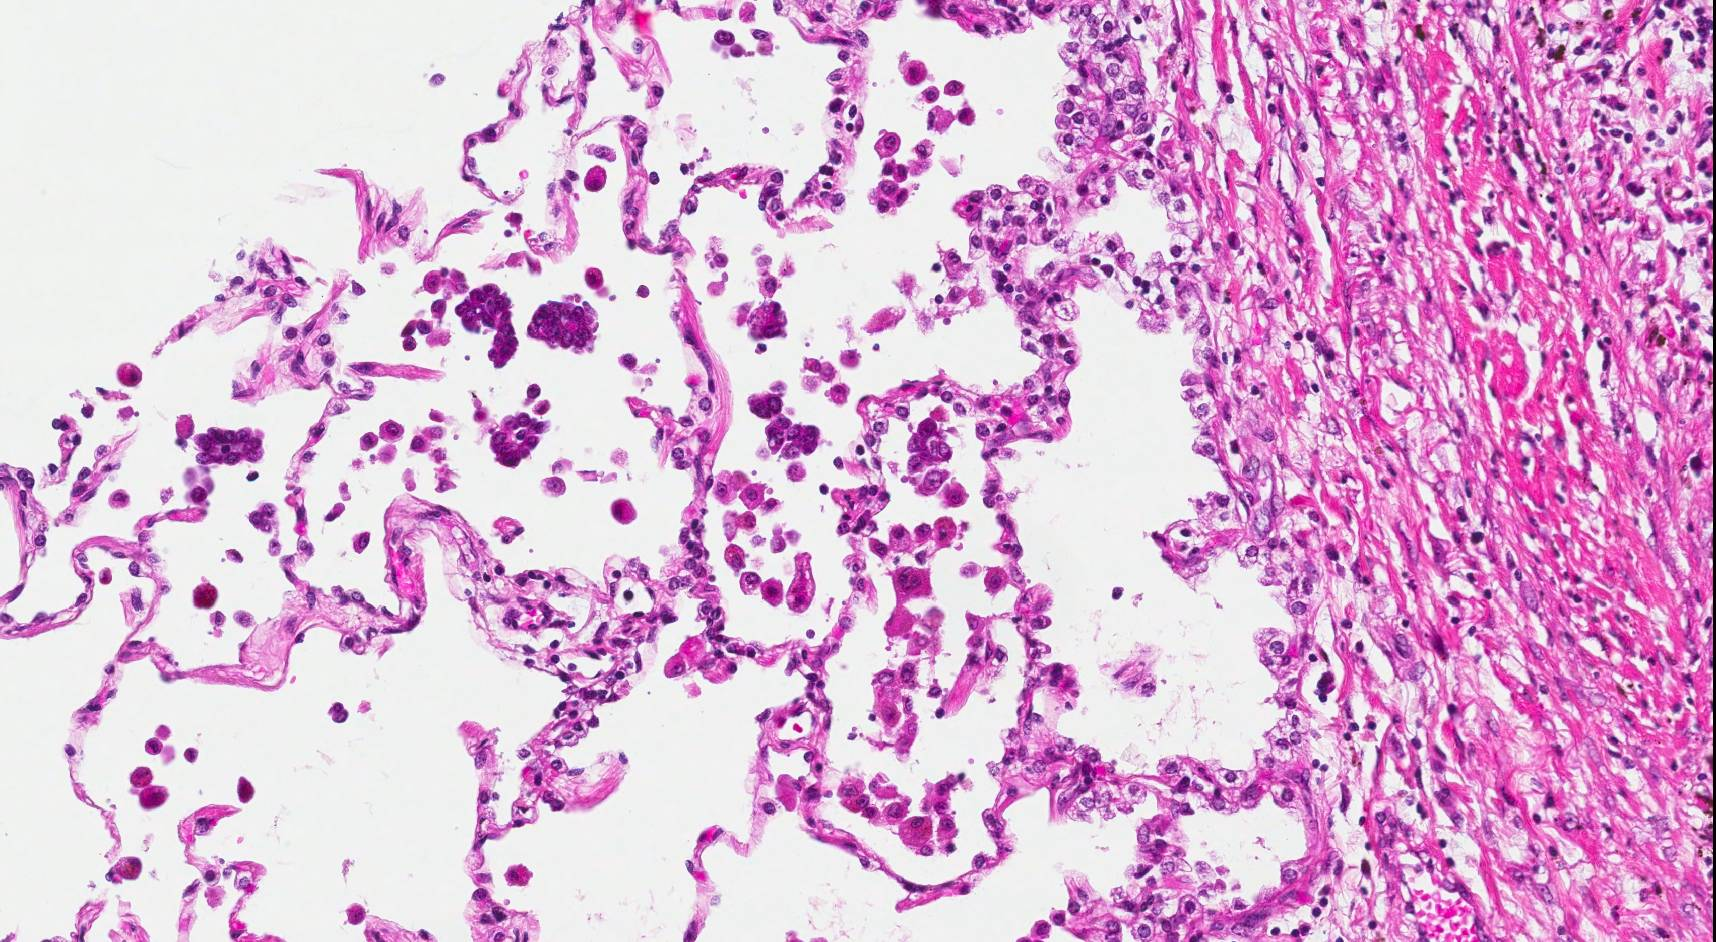stas: (745, 381, 825, 462), (899, 413, 965, 504), (457, 280, 523, 369), (523, 299, 603, 360), (195, 415, 269, 474), (485, 410, 554, 470)
